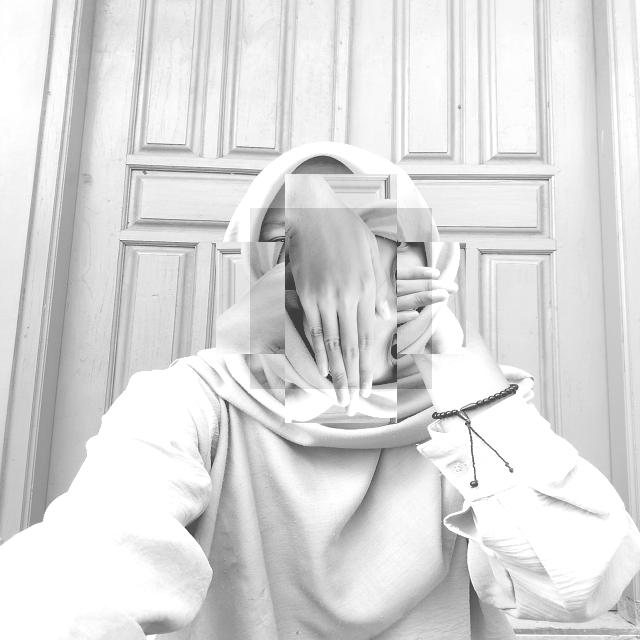buruk: (250, 208, 432, 389)
